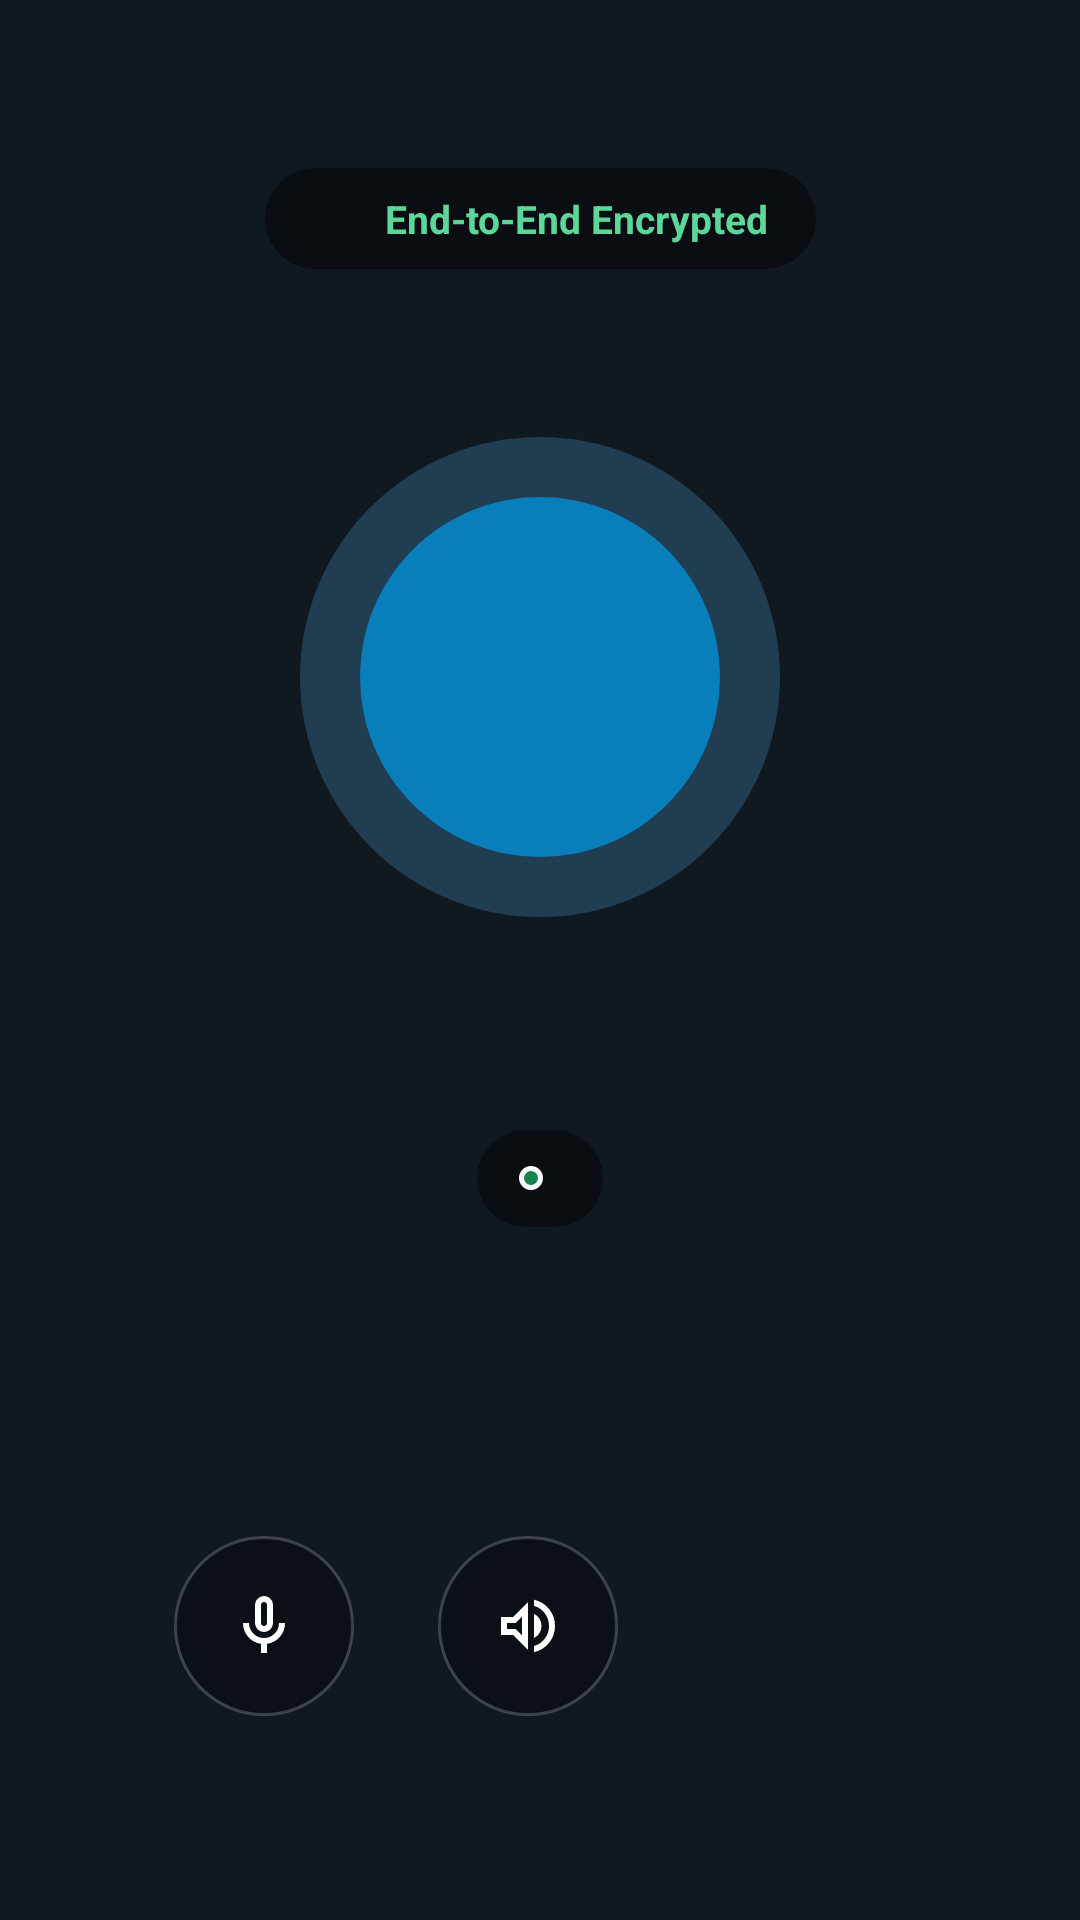

Point at icon controls on the screen. Image size 1080 × 1920, points as (x,y).
Mute Audio: (264,1626)
Toggle Speaker: (528,1626)
